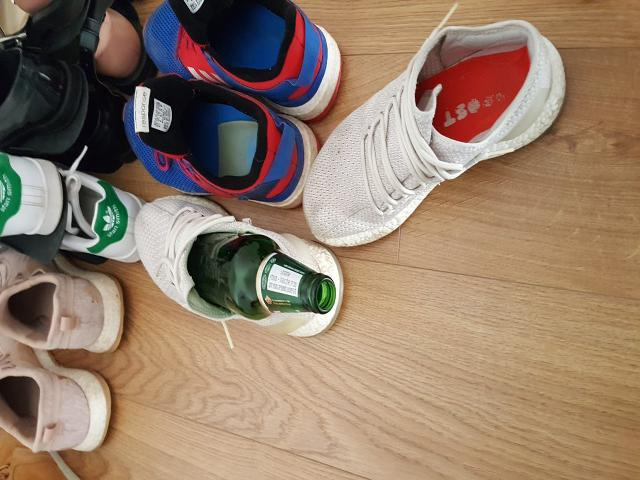beer: (188, 230, 336, 319)
